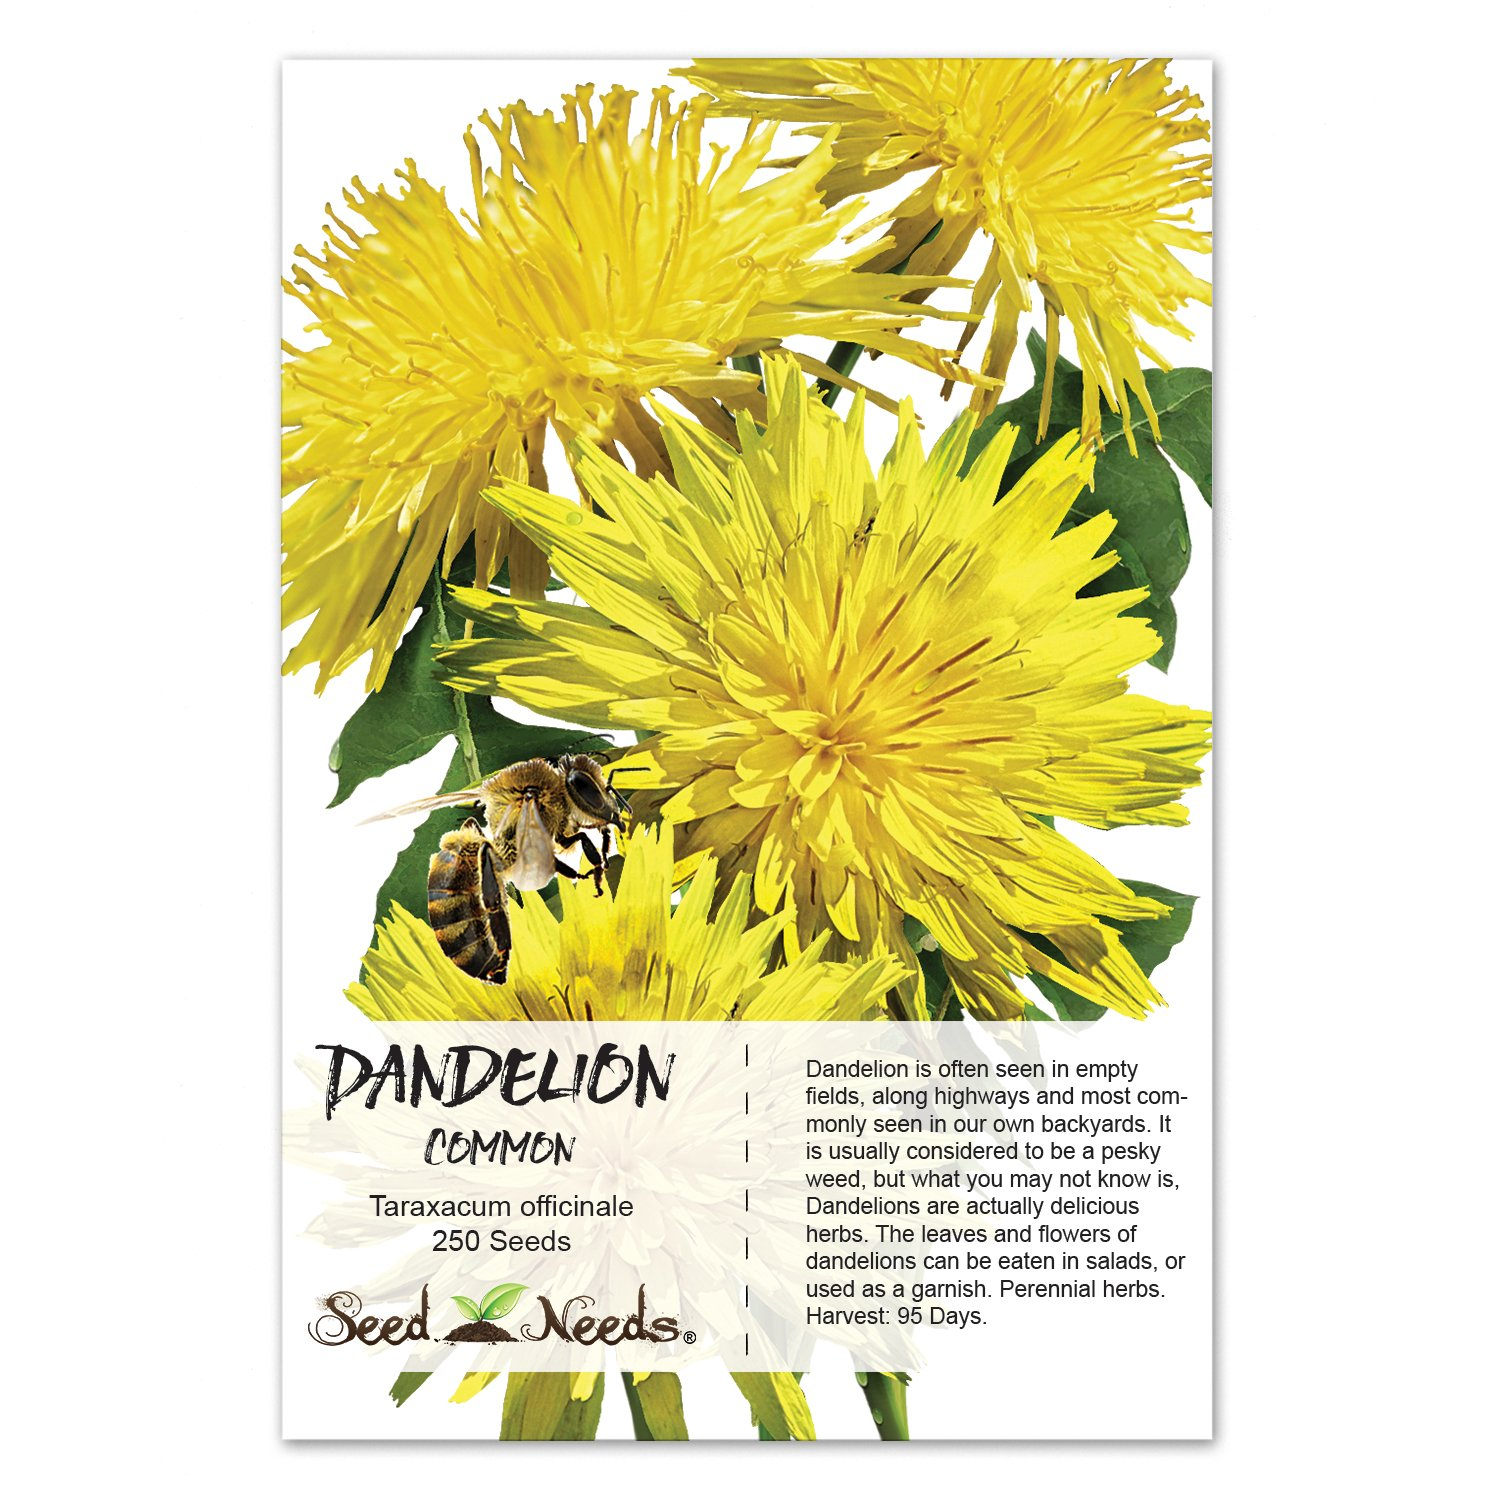dandelion: (521, 422, 1163, 916), (288, 168, 775, 426), (709, 69, 1207, 310), (365, 893, 875, 1023)
